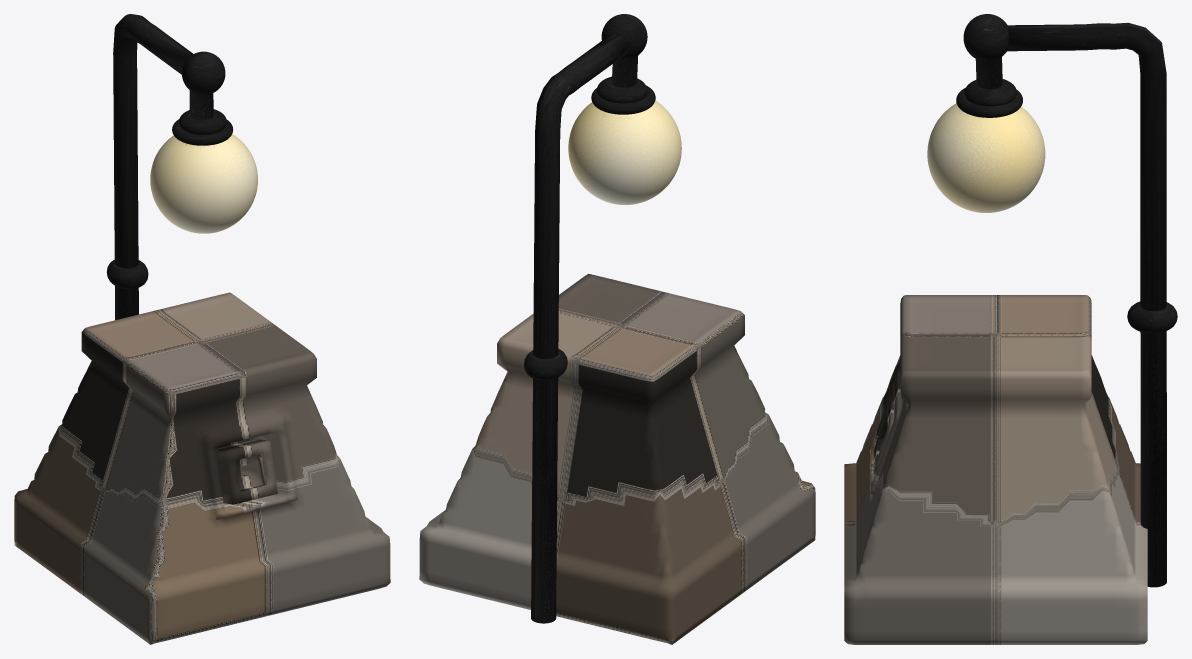
File: Lumbrera.fbx
The picture shows the model from 3 angles, left to right: view 1: azimuth 30°, elevation 25°; view 2: azimuth 150°, elevation 25°; view 3: azimuth 270°, elevation 25°; orthographic projection. The views are drawn at different scales.
Parts seen in each view (by area): view 1: Sphere.001; view 2: Sphere.001; view 3: Sphere.001.
Boxes of the visible parts, x1=… form: Sphere.001: x1=14, y1=14, x2=390, y2=644; Sphere.001: x1=419, y1=14, x2=815, y2=644; Sphere.001: x1=844, y1=14, x2=1177, y2=644.
Bounding box in the file's own units: 254 × 522 × 279.
